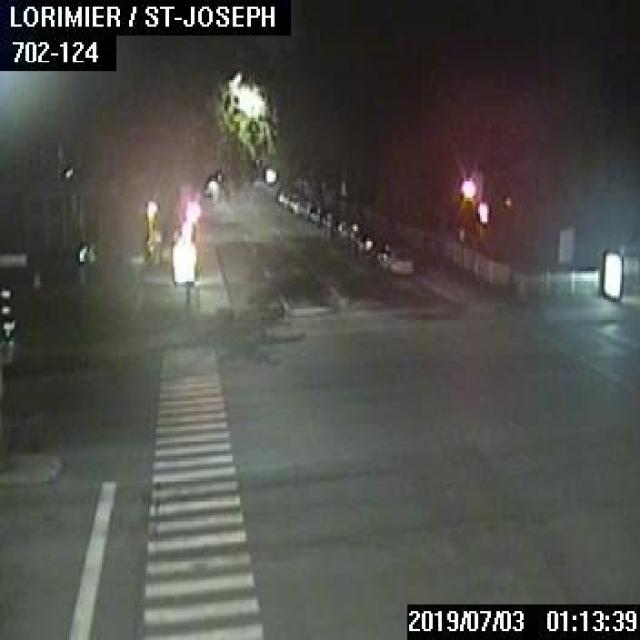vehicle: (377, 247, 413, 275), (351, 228, 383, 257)
